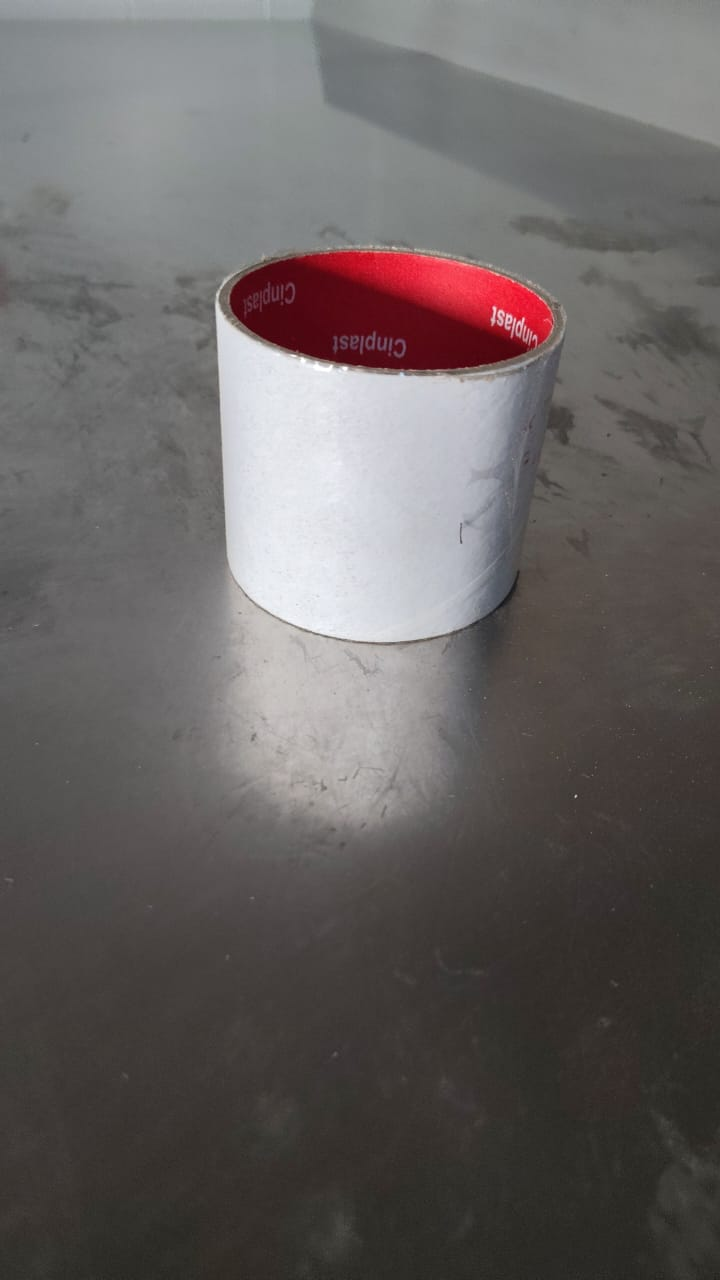Carton: (218, 241, 566, 648)
